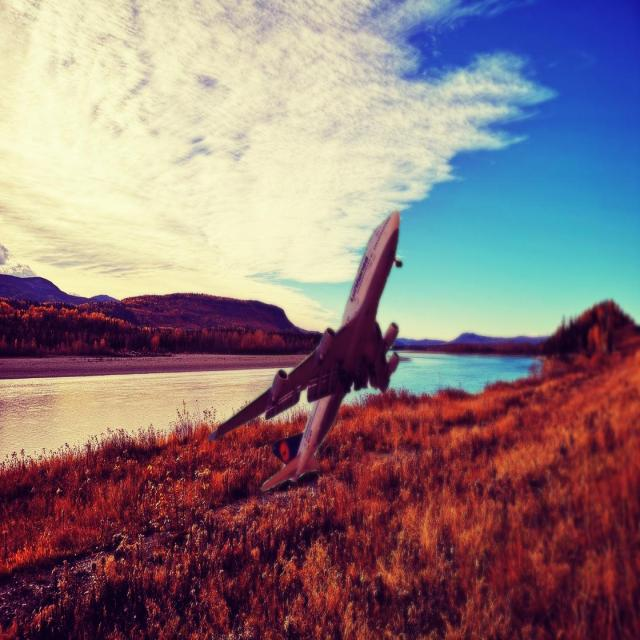airplane: (207, 208, 412, 492)
